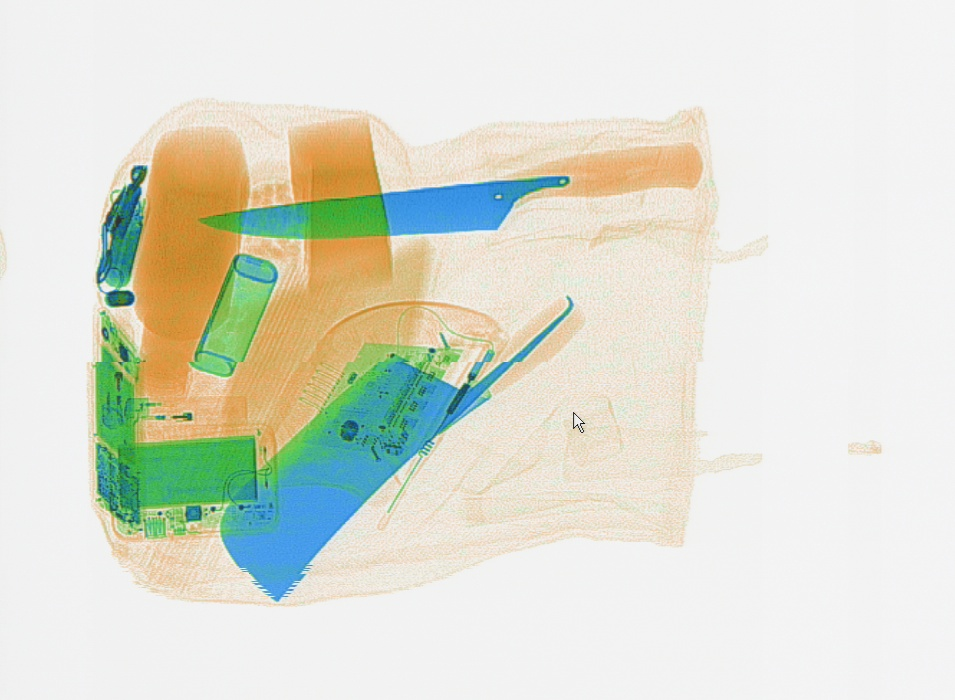knife: (219, 287, 586, 604), (194, 140, 706, 241)
lighter: (122, 396, 248, 425)
